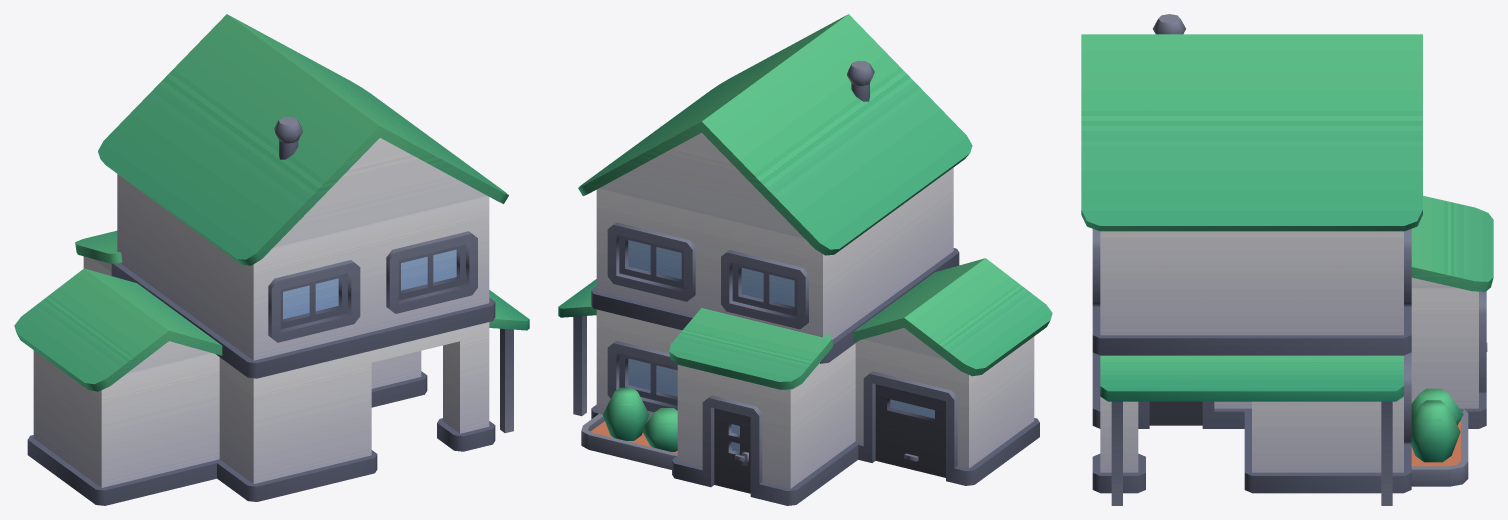
File: building-type-s.glb
The picture shows the model from 3 angles, left to right: view 1: azimuth 30°, elevation 25°; view 2: azimuth 150°, elevation 25°; view 3: azimuth 270°, elevation 25°; orthographic projection. The views are drawn at different scales.
Parts seen in each view (by area): view 1: building-type-s; view 2: building-type-s; view 3: building-type-s.
Part boxes in pixels (<box>): building-type-s: <box>14,14,529,505</box>; building-type-s: <box>558,14,1052,505</box>; building-type-s: <box>1081,14,1493,505</box>.
Size of the model in its own units: 1.41 by 1.14 by 1.09.
1 material, 1 textured.
